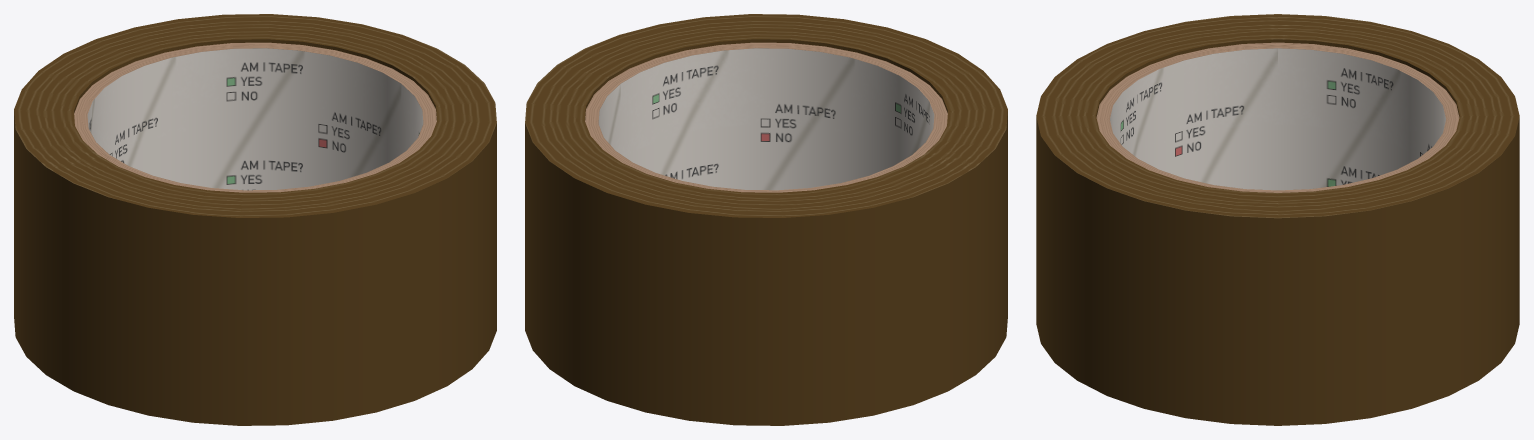
File: Tape_Packing.fbx
3 views of the same model, side by side, from view 1: azimuth 30°, elevation 25°; view 2: azimuth 150°, elevation 25°; view 3: azimuth 270°, elevation 25° (orthographic).
Visible parts, largest first — view 1: Tape_Packing; view 2: Tape_Packing; view 3: Tape_Packing.
Boxes of the visible parts, x1=… form: Tape_Packing: x1=14, y1=14, x2=496, y2=425; Tape_Packing: x1=525, y1=14, x2=1007, y2=425; Tape_Packing: x1=1036, y1=14, x2=1519, y2=425.
Bounding box in the file's own units: 105 × 105 × 50.
